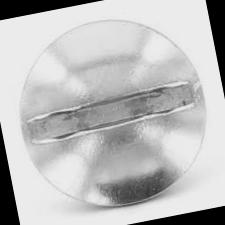screw: (4, 1, 224, 222)
